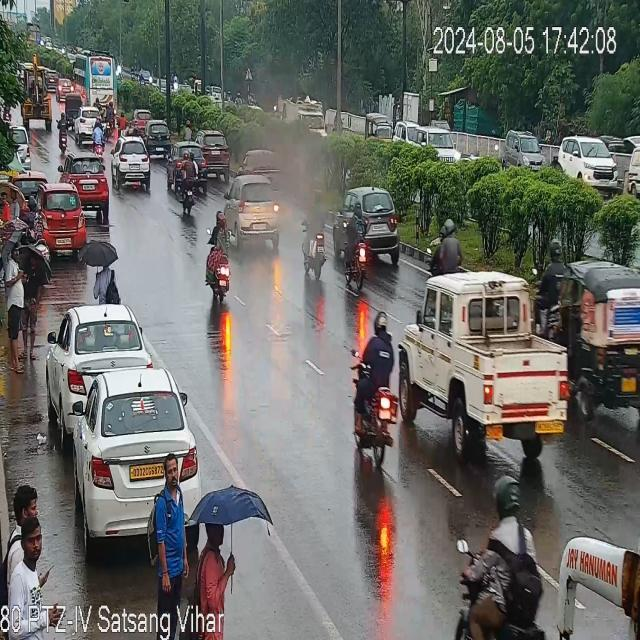2-wheelers: (456, 470, 550, 640), (346, 309, 396, 469), (204, 217, 237, 303), (422, 215, 466, 272), (303, 188, 326, 286), (343, 203, 365, 280), (176, 152, 202, 215), (102, 104, 136, 137), (56, 114, 74, 153), (90, 122, 106, 154)
auto: (559, 256, 640, 410), (66, 93, 84, 119)
bus: (551, 520, 640, 640), (72, 52, 118, 106)
car: (72, 372, 191, 540), (48, 303, 146, 413), (24, 167, 84, 255), (223, 175, 287, 249), (341, 182, 398, 260), (556, 134, 627, 196), (38, 188, 86, 252), (504, 130, 562, 172), (64, 161, 109, 210), (113, 142, 153, 190), (200, 132, 230, 177), (64, 156, 108, 180), (144, 122, 174, 156), (76, 106, 98, 146), (131, 106, 149, 130)
pedestrian: (203, 523, 246, 640), (5, 486, 53, 584), (3, 238, 26, 372), (161, 454, 182, 594), (25, 236, 44, 364), (95, 262, 123, 302), (0, 182, 21, 215)
truck: (396, 271, 570, 451), (23, 66, 59, 126)
